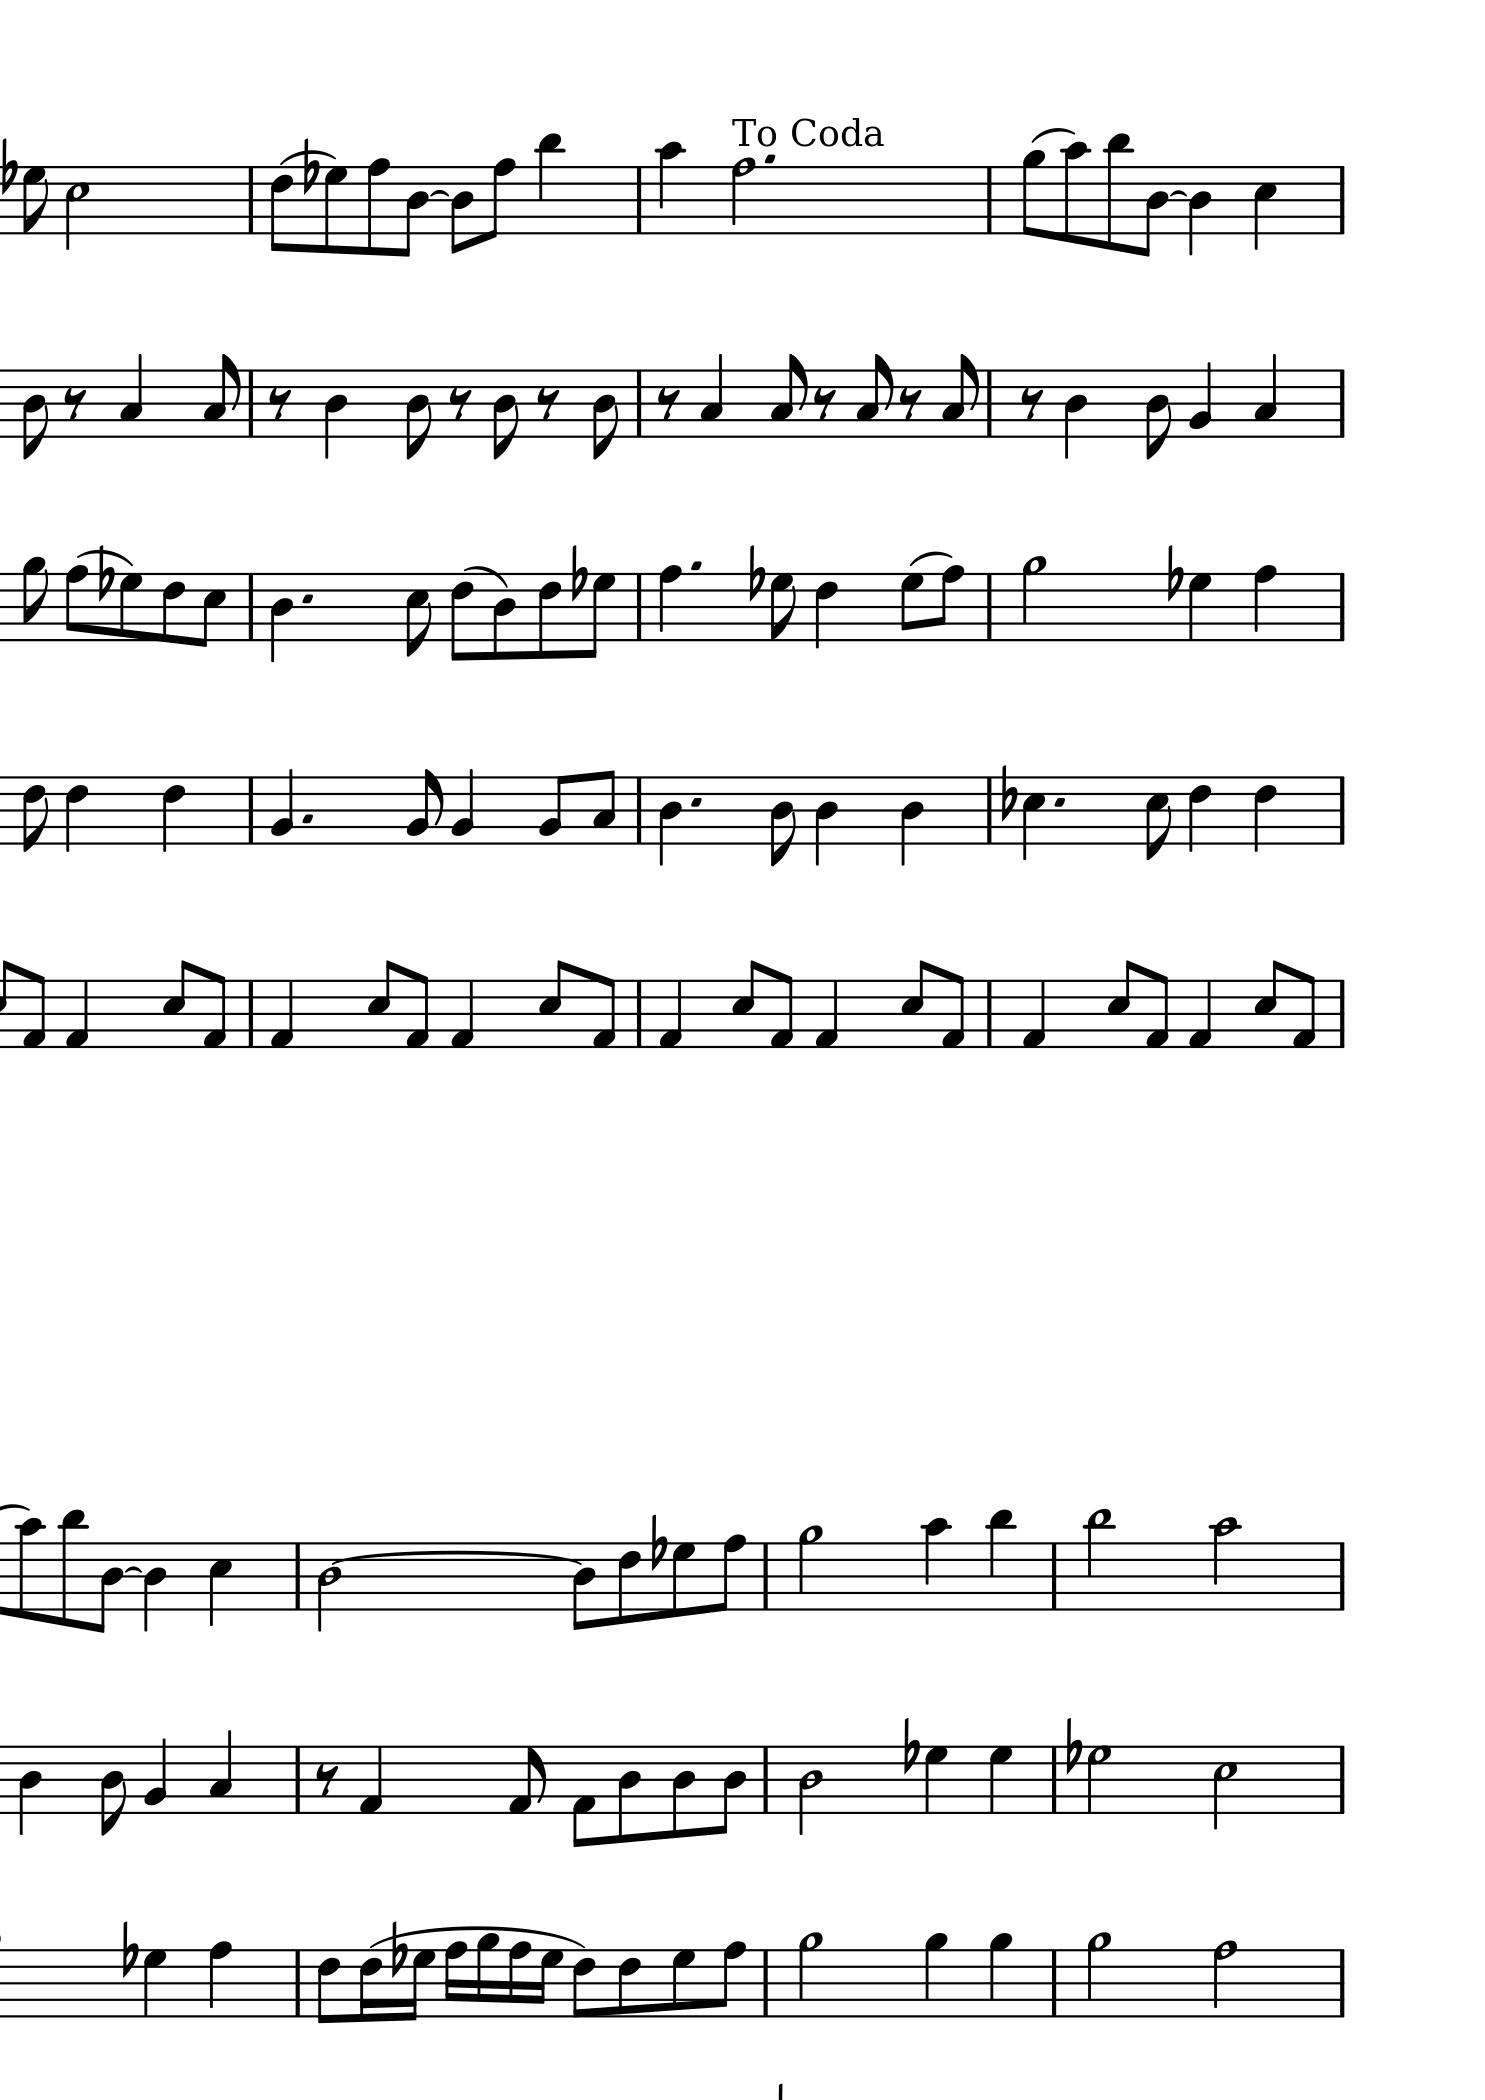16_6: (315, 1947, 341, 2026), (357, 1947, 382, 2024)
16_7: (402, 1947, 434, 2023), (532, 1947, 562, 2020)
16_8: (442, 1938, 468, 2020), (505, 1938, 530, 2020)
16_9: (472, 1931, 500, 2020)
2_10: (1210, 1514, 1241, 1612)
2_11: (1082, 1509, 1114, 1612)
2_4: (313, 1542, 341, 1634), (796, 1743, 821, 1836)
2_5: (1210, 1743, 1237, 1832), (64, 165, 90, 252)
2_7: (1083, 1743, 1111, 1817)
2_8: (728, 154, 755, 238), (1212, 1938, 1237, 2020)
2_9: (1019, 554, 1046, 644), (1083, 1931, 1111, 2020), (796, 1931, 821, 2020), (796, 1525, 821, 1612)
4_1: (1017, 979, 1046, 1051), (1184, 977, 1212, 1051), (267, 979, 294, 1051), (448, 977, 474, 1051), (63, 979, 88, 1051), (656, 979, 681, 1051), (812, 979, 837, 1051), (357, 1743, 382, 1816)
4_10: (919, 1517, 951, 1613), (656, 140, 685, 236)
4_11: (985, 1509, 1016, 1613), (534, 132, 562, 238)
4_2: (268, 766, 294, 847), (448, 768, 474, 847), (1186, 362, 1212, 439), (141, 1735, 166, 1816)
4_3: (117, 352, 145, 439), (1250, 352, 1278, 439), (697, 352, 723, 440), (206, 1729, 231, 1816)
4_4: (1184, 165, 1212, 259), (812, 774, 837, 869), (897, 774, 922, 869), (321, 368, 347, 461), (267, 572, 292, 665), (656, 776, 681, 868), (1062, 368, 1086, 463), (141, 1541, 166, 1636), (16, 1743, 40, 1836)
4_5: (1250, 164, 1278, 254), (1019, 776, 1045, 864), (206, 1541, 231, 1629)
4_6: (812, 570, 837, 651), (159, 774, 185, 855), (1184, 774, 1210, 855), (1250, 774, 1276, 855), (63, 774, 87, 853)
4_7: (1186, 570, 1212, 643), (987, 1745, 1012, 1816), (922, 1743, 947, 1817), (141, 1947, 166, 2020)
4_8: (1250, 562, 1278, 644), (657, 564, 683, 643), (207, 1939, 231, 2020)
4_9: (921, 1931, 948, 2020), (987, 1931, 1012, 2020)
8_1: (506, 1743, 546, 1817), (569, 1743, 595, 1849), (403, 970, 429, 1051), (767, 970, 792, 1051), (1143, 970, 1168, 1051), (1289, 970, 1315, 1051), (588, 975, 616, 1051), (19, 972, 45, 1051), (199, 972, 225, 1051), (939, 972, 964, 1051)
8_10: (1061, 141, 1091, 247), (14, 1517, 43, 1623)
8_11: (56, 1509, 87, 1631), (1102, 133, 1133, 254)
8_2: (407, 768, 444, 847), (537, 773, 567, 847)
8_3: (939, 353, 979, 439), (201, 353, 239, 439), (768, 353, 807, 439), (853, 353, 890, 439), (590, 768, 616, 847)
8_4: (710, 1743, 746, 1836), (395, 165, 427, 260), (1136, 164, 1167, 260), (588, 368, 619, 463), (92, 1542, 122, 1636), (402, 368, 431, 463), (767, 774, 796, 869), (96, 1743, 125, 1838), (490, 368, 517, 463), (1143, 368, 1170, 463), (19, 368, 47, 461), (669, 1743, 694, 1841), (616, 1743, 640, 1846), (490, 570, 517, 660), (447, 165, 472, 255), (571, 1541, 595, 1632)
8_5: (363, 959, 397, 1051), (159, 958, 191, 1051), (898, 958, 931, 1051), (537, 958, 567, 1051), (1104, 958, 1135, 1051), (1250, 958, 1281, 1051), (730, 959, 759, 1051), (194, 570, 227, 648), (1143, 774, 1170, 863), (405, 572, 432, 659)
8_6: (448, 570, 472, 664), (19, 774, 47, 855), (268, 165, 292, 255), (537, 572, 561, 660), (616, 1541, 640, 1626), (159, 570, 185, 644), (571, 1947, 595, 2020), (616, 1947, 640, 2020)
8_7: (582, 570, 614, 660), (321, 164, 347, 257), (19, 164, 47, 236), (670, 1539, 694, 1618), (116, 570, 141, 643), (768, 570, 794, 643), (669, 1947, 694, 2020), (898, 570, 922, 643)
8_8: (710, 1533, 746, 1613), (363, 156, 391, 257), (712, 1939, 746, 2020), (934, 562, 964, 643), (485, 156, 514, 239), (63, 564, 88, 644)
8_9: (19, 558, 47, 644), (1021, 151, 1045, 239)
Flat: (387, 1918, 407, 1979), (744, 543, 763, 603), (1164, 543, 1183, 603), (996, 763, 1016, 823), (95, 545, 114, 603), (567, 543, 587, 601), (299, 137, 317, 198), (648, 1510, 665, 1571), (900, 1716, 918, 1777), (1062, 1716, 1080, 1777), (119, 1918, 137, 1979), (2, 137, 18, 201)
Rests8: (61, 386, 87, 421), (267, 386, 292, 421), (656, 386, 681, 421), (1017, 386, 1043, 421), (447, 386, 471, 423), (313, 1763, 339, 1796), (813, 386, 836, 423), (898, 386, 921, 421), (535, 387, 559, 419)
Single_barline: (1043, 1951, 1066, 2016), (1331, 1951, 1352, 2018), (979, 574, 1000, 639), (288, 1951, 309, 2016), (241, 167, 260, 235), (630, 167, 649, 233), (628, 371, 648, 437), (628, 778, 648, 844), (628, 982, 648, 1048), (979, 982, 998, 1048), (1045, 1544, 1064, 1610), (1331, 1544, 1350, 1610), (755, 1747, 775, 1812), (1331, 1747, 1350, 1812), (755, 1951, 775, 2016), (1332, 574, 1350, 641), (1331, 980, 1348, 1048), (289, 1542, 307, 1610), (1332, 371, 1350, 437), (630, 574, 648, 639), (241, 982, 259, 1048), (757, 1542, 775, 1608), (288, 1747, 305, 1812), (1045, 1747, 1062, 1812), (241, 371, 259, 435), (979, 371, 996, 435), (1332, 167, 1348, 235), (980, 167, 996, 233), (243, 574, 259, 639), (980, 778, 996, 844), (1332, 778, 1348, 844), (243, 778, 259, 844)
Slur: (368, 1926, 587, 1954), (329, 1549, 587, 1568), (76, 545, 133, 569), (461, 566, 509, 588), (278, 148, 337, 165), (906, 550, 951, 569), (1029, 127, 1075, 145), (427, 190, 452, 199), (122, 1565, 143, 1575)
ToCoda: (728, 117, 889, 149)
dot: (1049, 795, 1066, 810), (299, 811, 315, 826), (762, 149, 776, 165), (688, 559, 702, 574), (299, 591, 313, 606), (688, 795, 702, 810)
